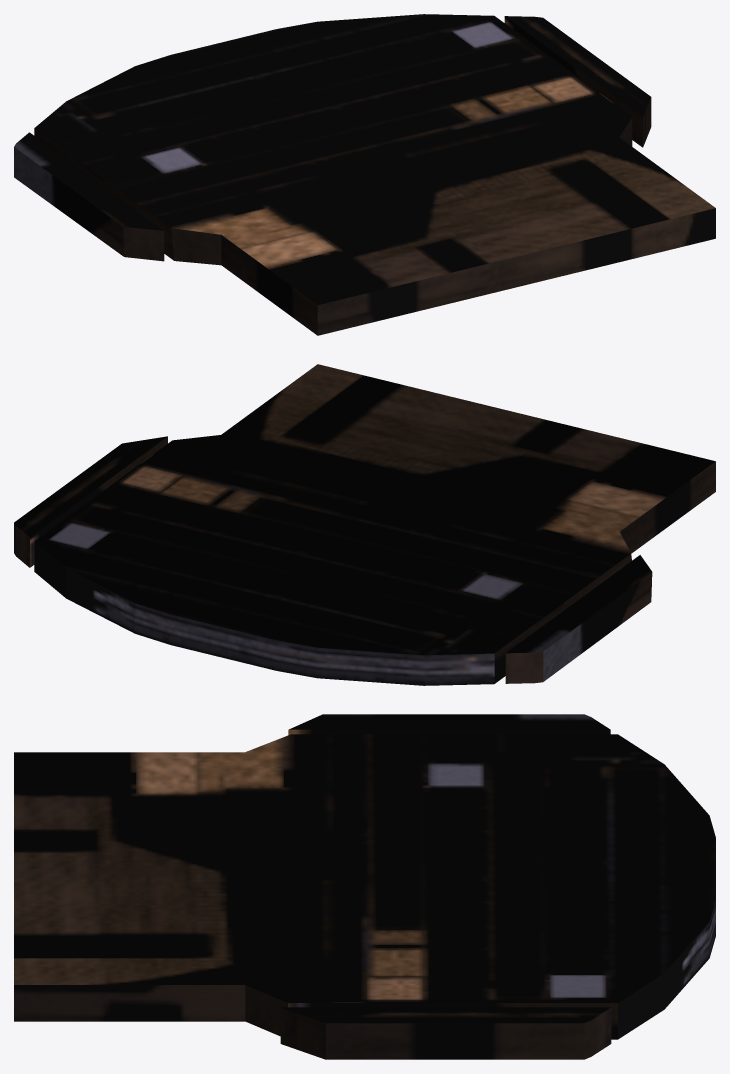
The model's file is ex_Doorx1_half.obj.
The picture shows the model from 3 angles, top to bottom: view 1: azimuth 30°, elevation 25°; view 2: azimuth 150°, elevation 25°; view 3: azimuth 270°, elevation 25°; orthographic projection. The views are drawn at different scales.
Visible parts, largest first — view 1: Cylinder.004_Mesh.004; view 2: Cylinder.004_Mesh.004; view 3: Cylinder.004_Mesh.004.
Part boxes in pixels (x1,y1,x2,y2): Cylinder.004_Mesh.004: (14,14,715,335); Cylinder.004_Mesh.004: (14,364,715,685); Cylinder.004_Mesh.004: (14,714,715,1059).
Bounding box in the file's own units: 190 × 10.5 × 183.
1 material, 1 textured.
